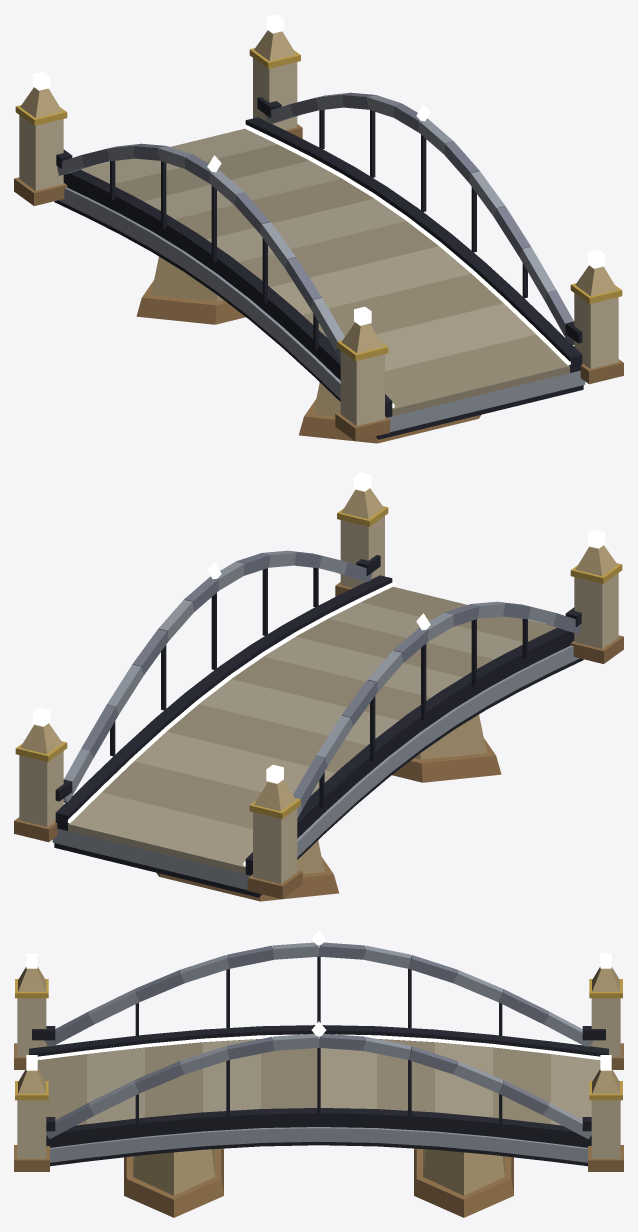
The model's file is bridge_span.glb.
The picture shows the model from 3 angles, top to bottom: view 1: azimuth 30°, elevation 25°; view 2: azimuth 150°, elevation 25°; view 3: azimuth 270°, elevation 25°; orthographic projection. The views are drawn at different scales.
Parts seen in each view (by area): view 1: body, glow; view 2: body, glow; view 3: body, glow.
Boxes of the visible parts, x1,y1,x2,y2 form: body: (14,30,623,443); glow: (32,14,605,407); body: (14,488,623,901); glow: (32,472,605,865); body: (14,942,623,1217); glow: (26,930,611,1070).
Size of the model in its own units: 4.78 by 3.77 by 10.52.
